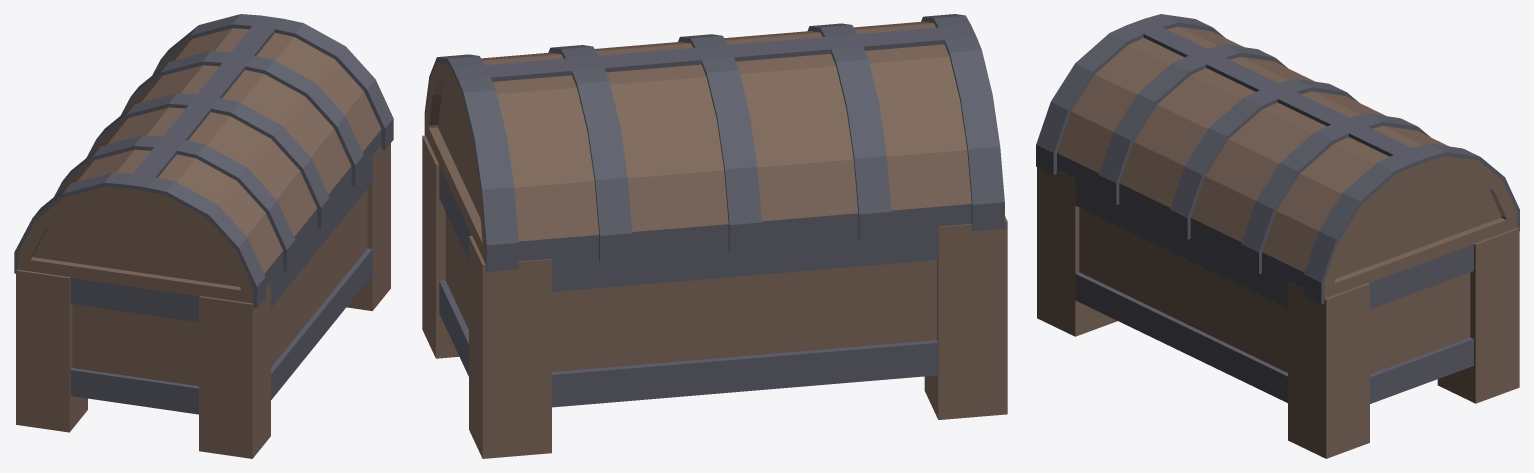
Rendered from chest.glb.
3 renders of one model, left to right at view 1: azimuth 30°, elevation 25°; view 2: azimuth 150°, elevation 25°; view 3: azimuth 270°, elevation 25°, orthographic. The views are drawn at different scales.
Parts seen in each view (by area): view 1: Chest.035; view 2: Chest.035; view 3: Chest.035.
Boxes of the visible parts, x1,y1,x2,y2 form: Chest.035: [14, 14, 393, 458]; Chest.035: [422, 14, 1007, 458]; Chest.035: [1036, 14, 1519, 458].
Size of the model in its own units: 0.0549 by 0.0318 by 0.0531.
